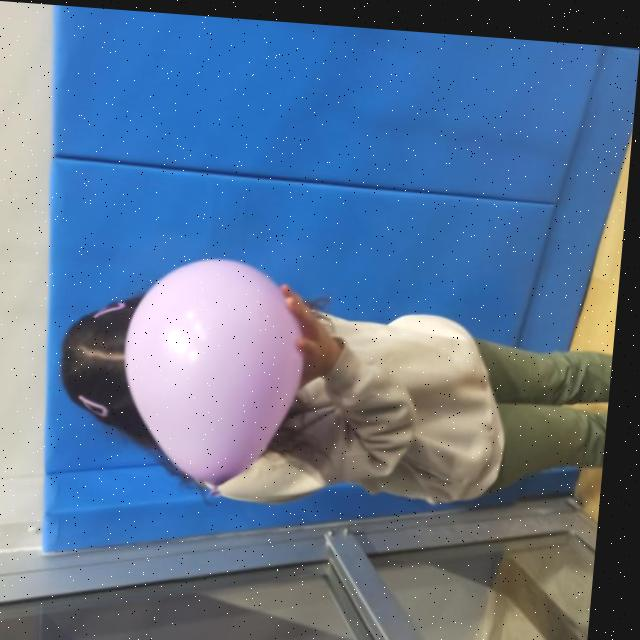balloon: (121, 245, 314, 488)
